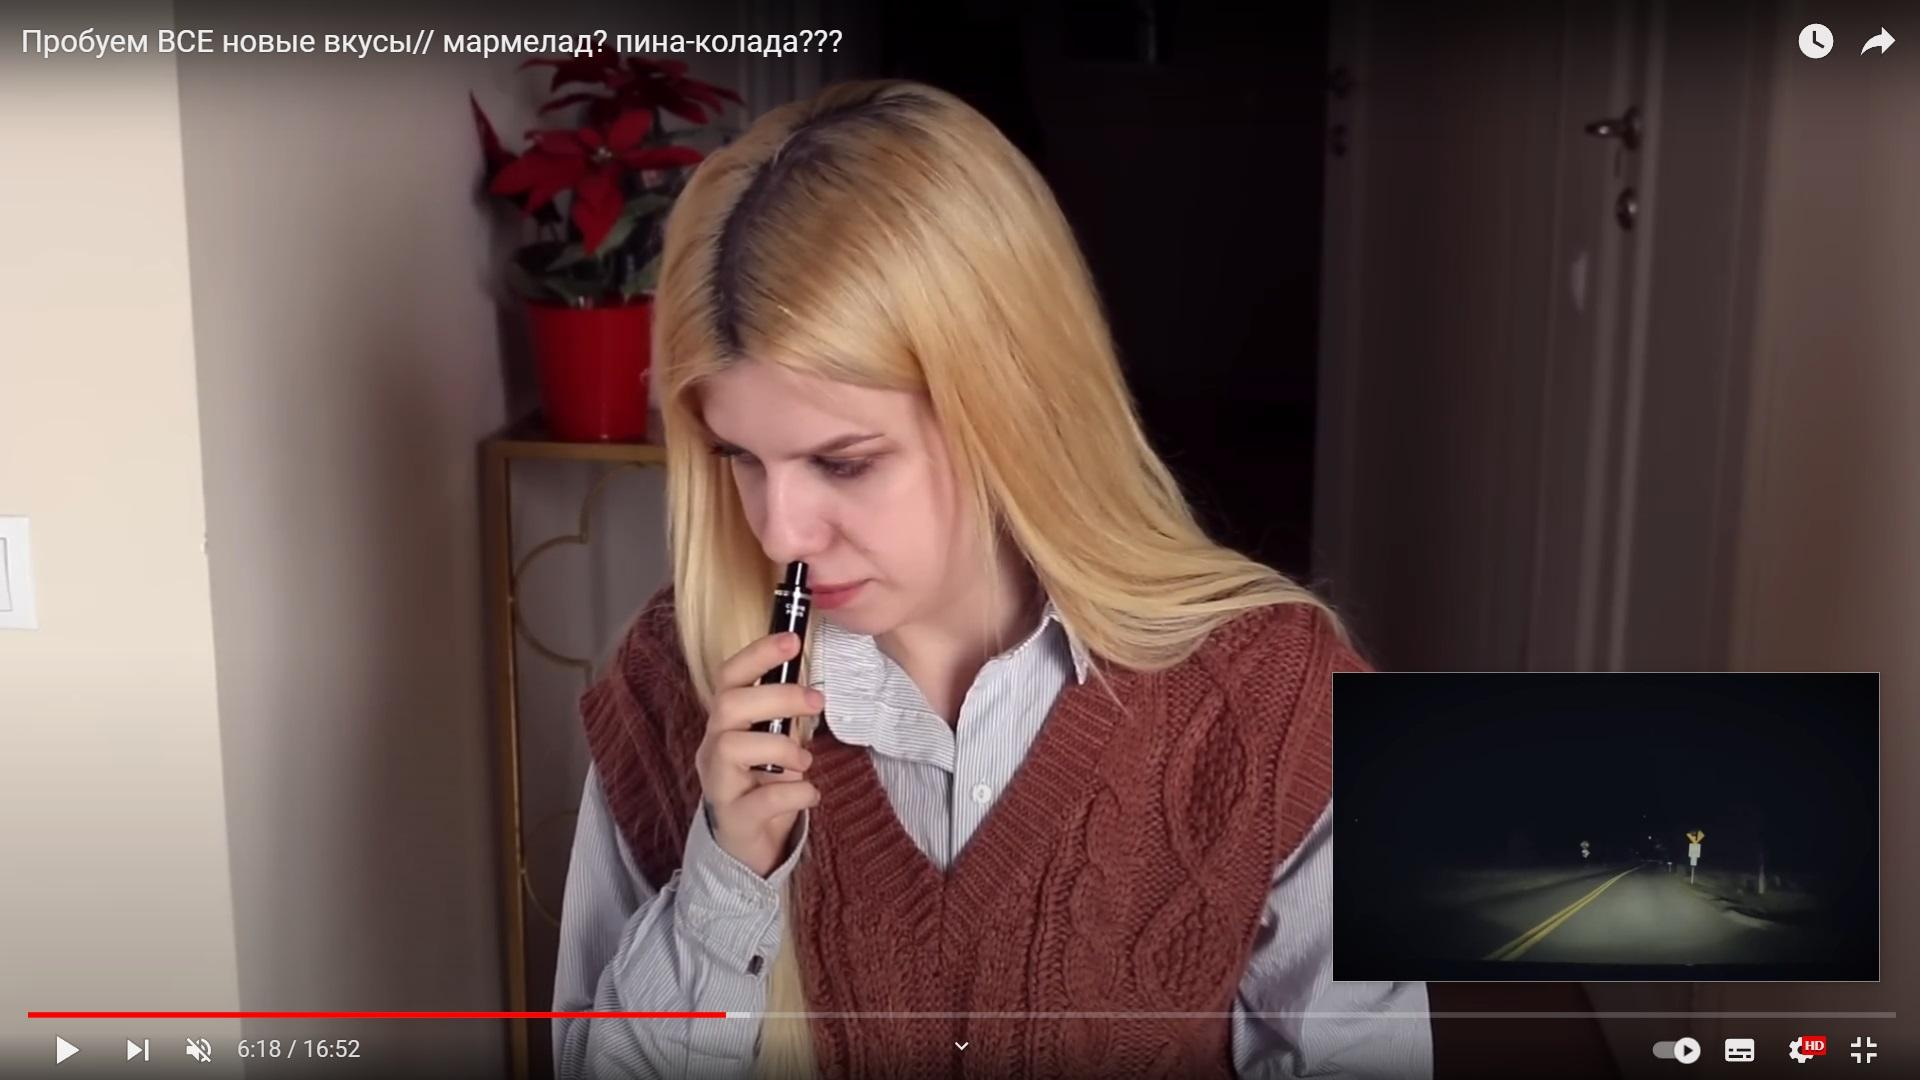Vape: (746, 559, 815, 774)
